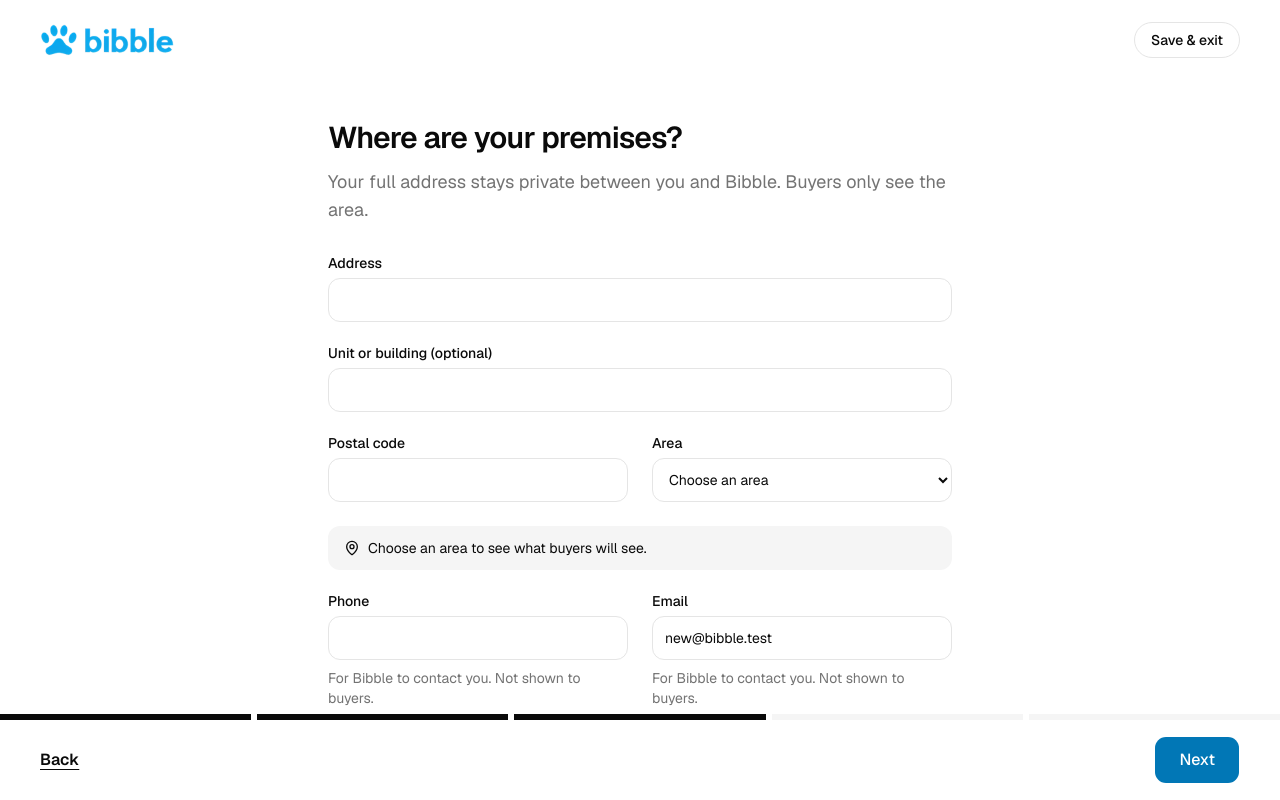
Test: Location step › previews the public location as the area changes
Expected: the text "Choose an area to see what buyers will see." is shown, [368, 538, 646, 558]
Expected: the field labelled "Email" holds "new@bibble.test", [652, 616, 952, 660]
Step 1. Select "Woodlands" in the dropdown labelled "Area" → point(802, 480), box [652, 458, 952, 502]
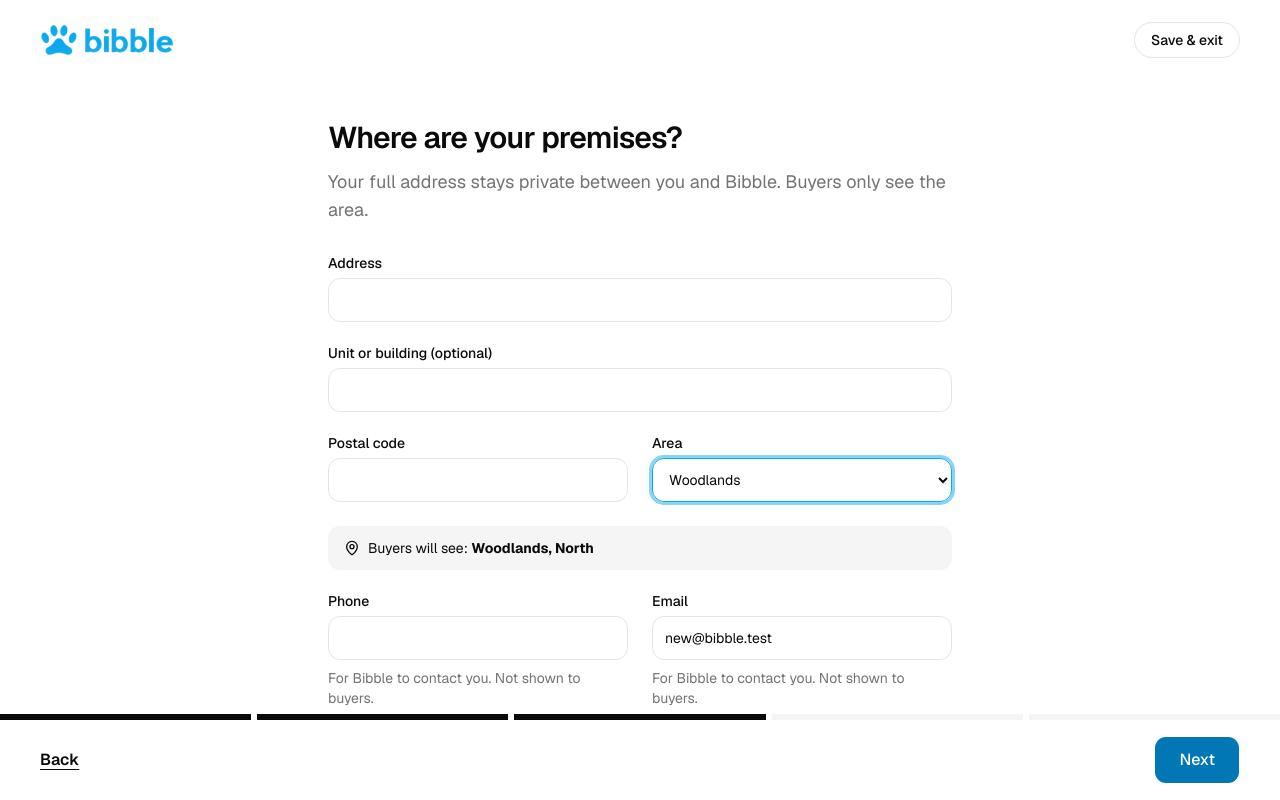
Expected: the text "Woodlands, North" is shown, [471, 539, 594, 557]
